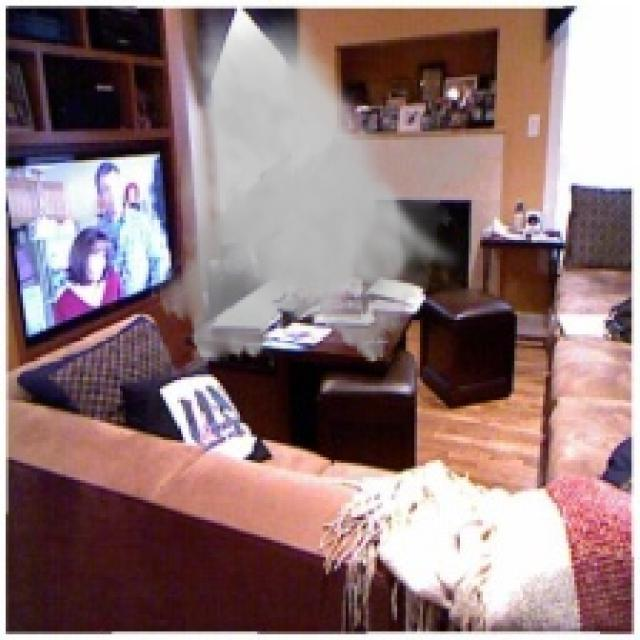Smoke: (148, 2, 492, 372)
